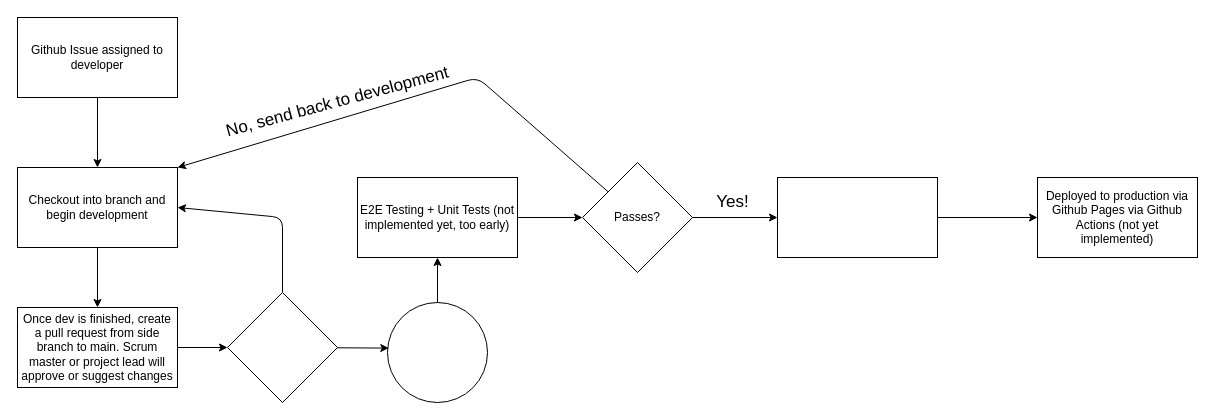
The diagram is 1215 pixels wide and 420 high, and some of its shapes have lost their labels. Here are the shapes that lost their labels. From the top down, the centre of each, then its label:
the point at 857,217: Document Generation via JSDocs (not yet implemented)
the point at 282,347: Coding Style, Design Good?
the point at 437,352: Approved pull requests merge into main production
